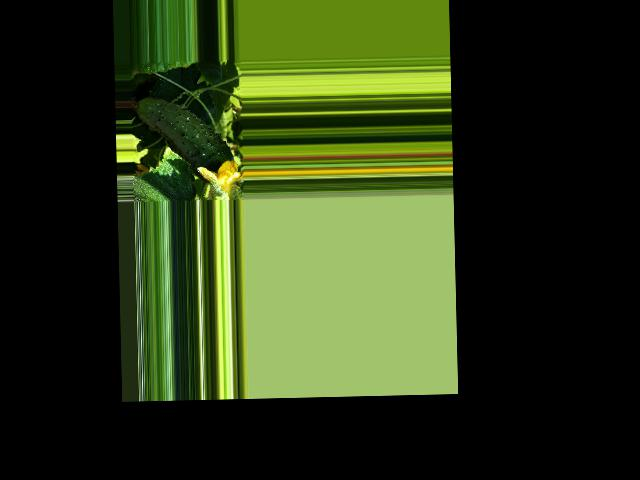cucumber: (130, 94, 234, 184)
